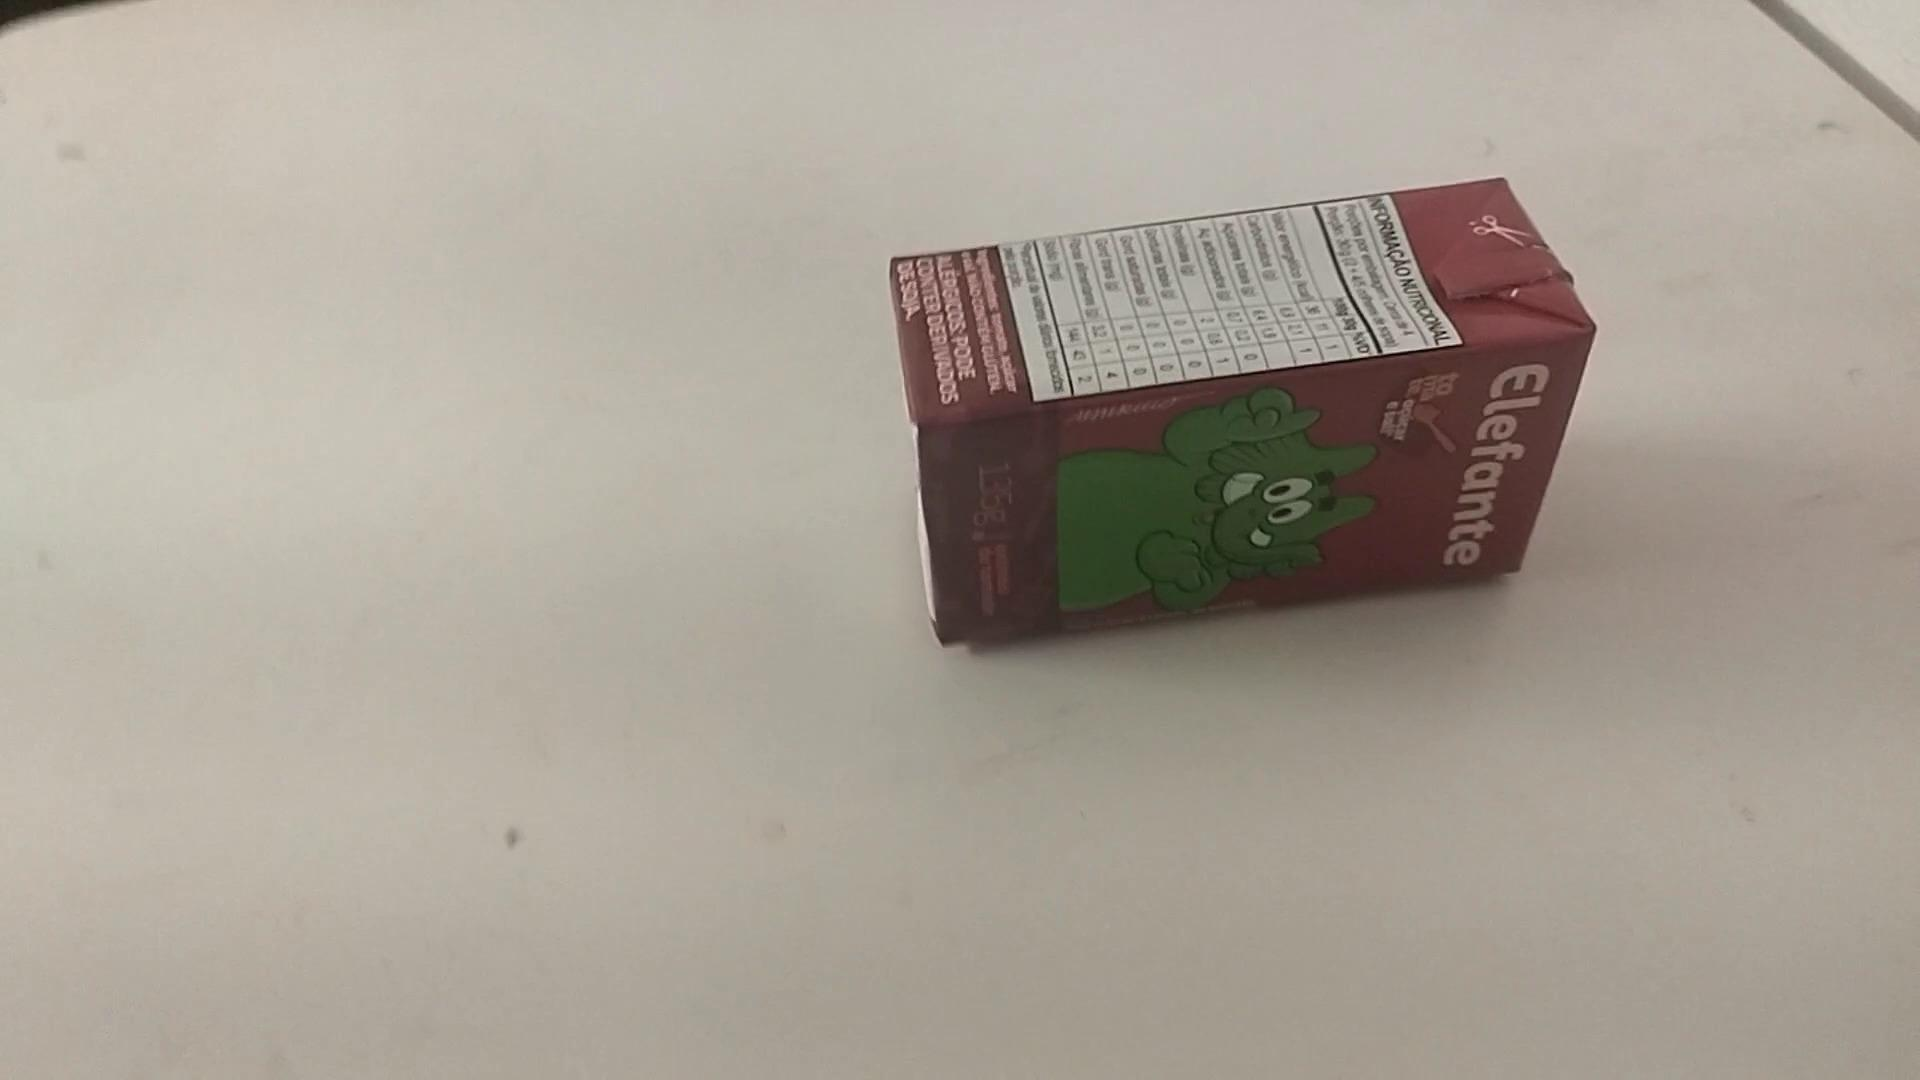tomate: (880, 166, 1593, 657)
